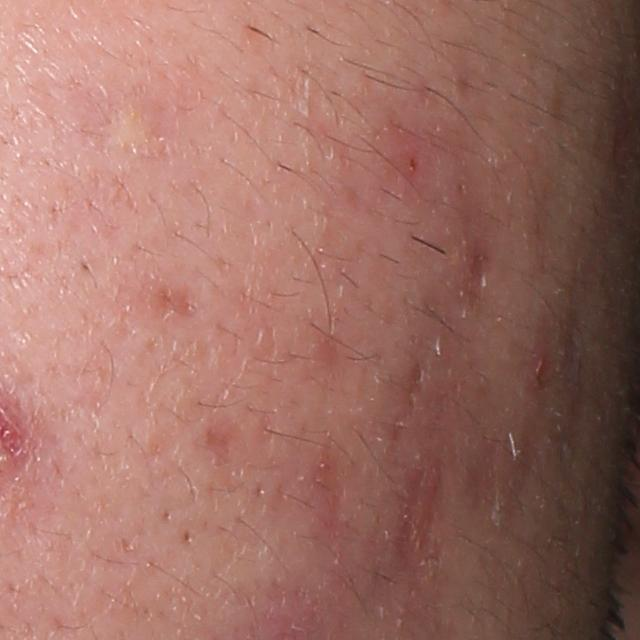papule: (528, 352, 554, 392)
